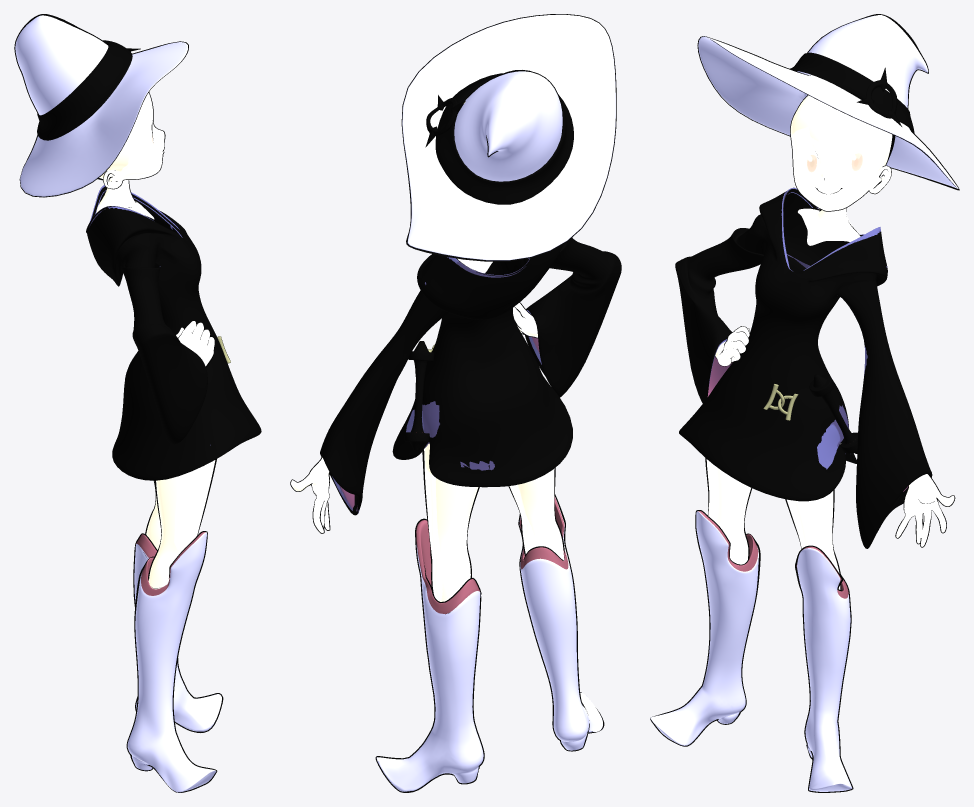
File: little witch academiaelementy.glb
The picture shows the model from 3 angles, left to right: view 1: azimuth 30°, elevation 25°; view 2: azimuth 150°, elevation 25°; view 3: azimuth 270°, elevation 25°; orthographic projection. The views are drawn at different scales.
Parts seen in each view (by area): view 1: Cube.001, Circle.001, Cube.008, Circle.003, Circle.012, AKKO HEAD, Cube.000, Circle.000, Cube.005; view 2: Cube.001, Circle.001, Cube.008, Circle.003, Circle.012, Cube.002, Circle.041, Cube.005, Circle.020, Cube.000, Circle.005; view 3: Cube.001, Cube.008, AKKO HEAD, Circle.001, Circle.042, Circle.003, Circle.012, Circle.020, Cube.002, Circle.041, Cube.000, Cube.005 (+1 smaller).
Boxes of the visible parts, <box> form: Cube.001: <box>86,186,261,480</box>; Circle.001: <box>15,15,187,196</box>; Cube.008: <box>127,532,221,792</box>; Circle.003: <box>146,460,215,589</box>; Circle.012: <box>14,14,188,197</box>; AKKO HEAD: <box>96,93,164,219</box>; Cube.000: <box>126,531,217,792</box>; Circle.000: <box>176,321,214,366</box>; Cube.005: <box>133,533,223,732</box>; Cube.001: <box>320,237,621,515</box>; Circle.001: <box>402,14,615,260</box>; Cube.008: <box>376,496,602,791</box>; Circle.003: <box>424,443,564,601</box>; Circle.012: <box>401,14,616,261</box>; Cube.002: <box>332,257,541,513</box>; Circle.041: <box>404,341,434,450</box>; Cube.005: <box>375,518,484,792</box>; Circle.020: <box>291,457,329,532</box>; Cube.000: <box>518,494,604,751</box>; Circle.005: <box>422,450,565,594</box>; Cube.001: <box>675,189,932,548</box>; Cube.008: <box>650,511,852,791</box>; AKKO HEAD: <box>790,95,892,245</box>; Circle.001: <box>703,15,958,188</box>; Circle.042: <box>698,36,958,188</box>; Circle.003: <box>706,459,840,589</box>; Circle.012: <box>697,14,959,190</box>; Circle.020: <box>896,474,954,546</box>; Cube.002: <box>707,187,908,491</box>; Circle.041: <box>809,374,857,453</box>; Cube.000: <box>650,510,760,746</box>; Cube.005: <box>795,545,853,792</box>.
Bounding box in the file's own units: 1.81 × 5.79 × 2.27.
Materials: 10 (4 with a texture image).
